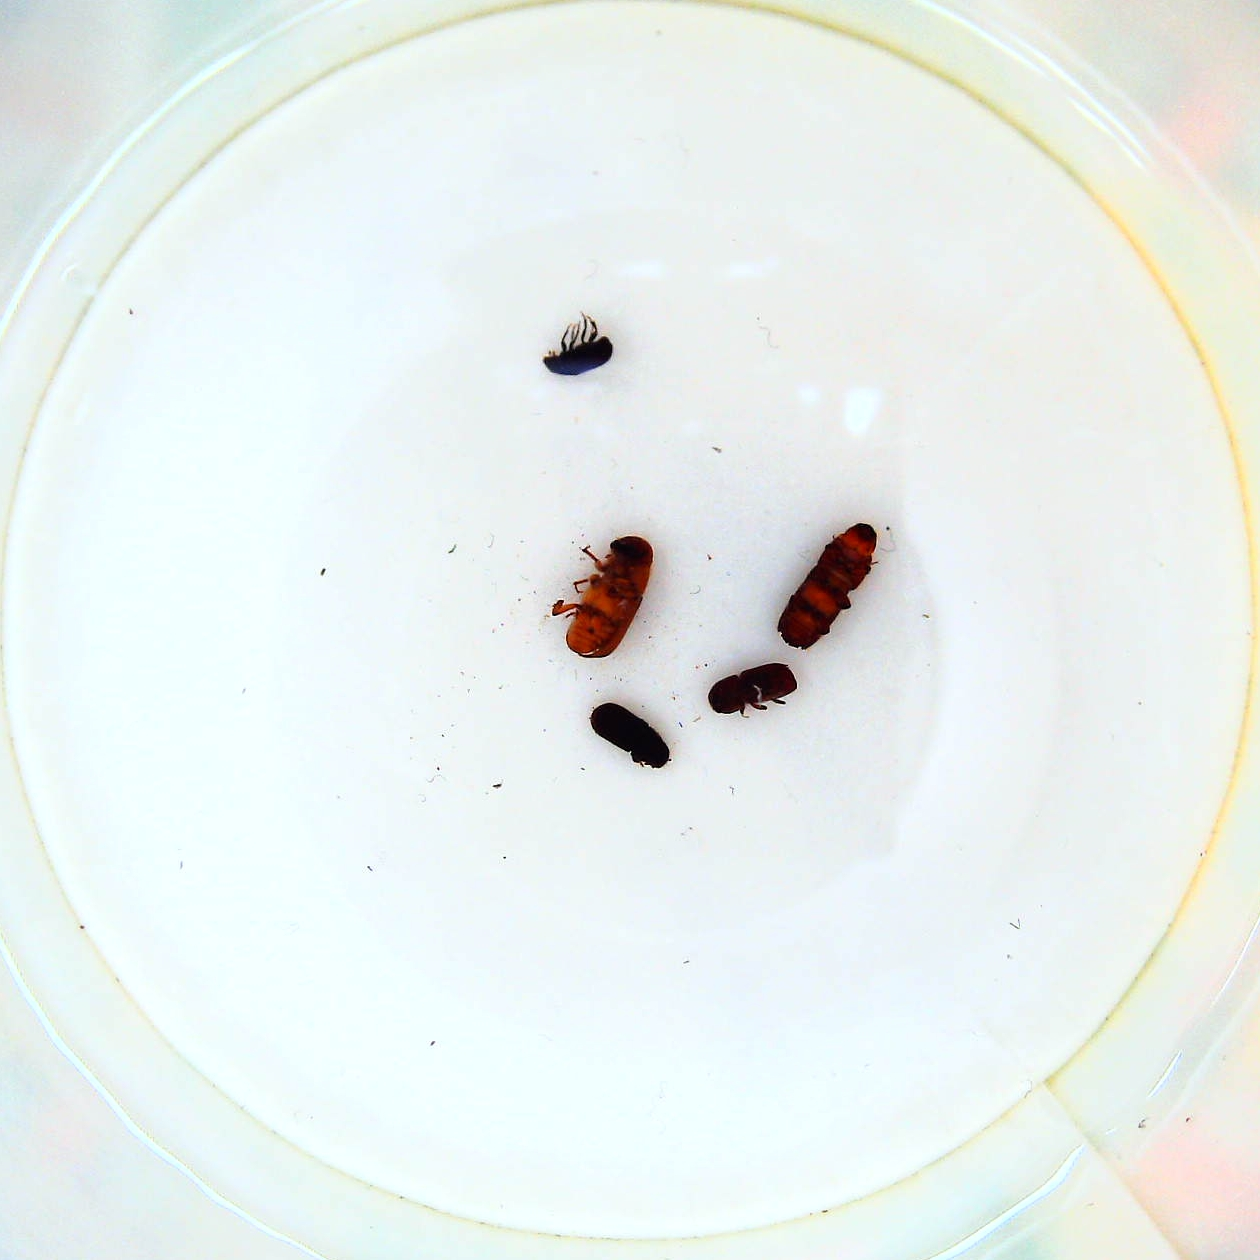Boerner: (777, 519, 882, 655)
Leconte: (553, 528, 657, 665)
armandi: (587, 697, 677, 777)
coleoptera: (540, 309, 616, 382)
linnaeus: (699, 663, 807, 719)
